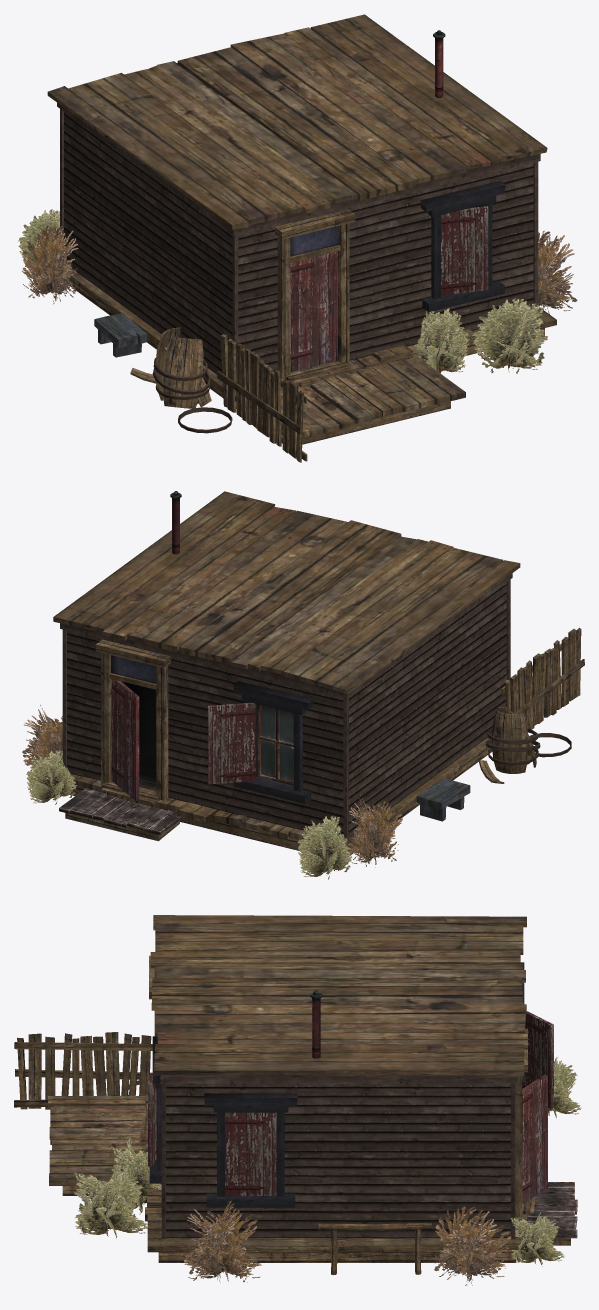
File: house.glb
3 renders of one model, top to bottom at view 1: azimuth 30°, elevation 25°; view 2: azimuth 150°, elevation 25°; view 3: azimuth 270°, elevation 25°, orthographic. The views are drawn at different scales.
Parts seen in each view (by area): view 1: House 1; view 2: House 1; view 3: House 1.
Boxes of the visible parts, bbox=[...] form: House 1: bbox=[18, 14, 577, 462]; House 1: bbox=[22, 491, 584, 879]; House 1: bbox=[14, 915, 581, 1285].
Size of what is drawn, in the model's own units: 8.58 by 4.95 by 9.79.
Materials: 2 (2 with a texture image).
